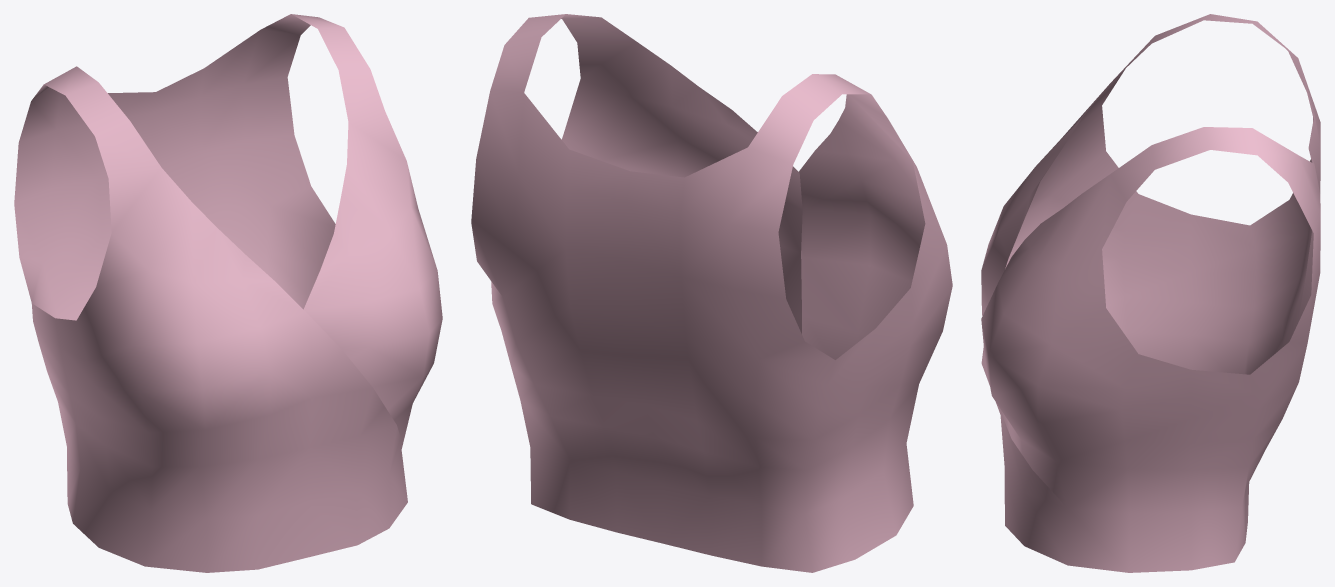
Rendered from blouse_18.glb.
3 views of the same model, side by side, from view 1: azimuth 30°, elevation 25°; view 2: azimuth 150°, elevation 25°; view 3: azimuth 270°, elevation 25° (orthographic). The views are drawn at different scales.
Visible parts, largest first — view 1: blouse_18; view 2: blouse_18; view 3: blouse_18.
Part boxes in pixels (<box>): blouse_18: <box>14,14,442,572</box>; blouse_18: <box>471,14,952,572</box>; blouse_18: <box>981,14,1320,572</box>.
Size of the model in its own units: 0.2752 by 0.3432 by 0.2466.
